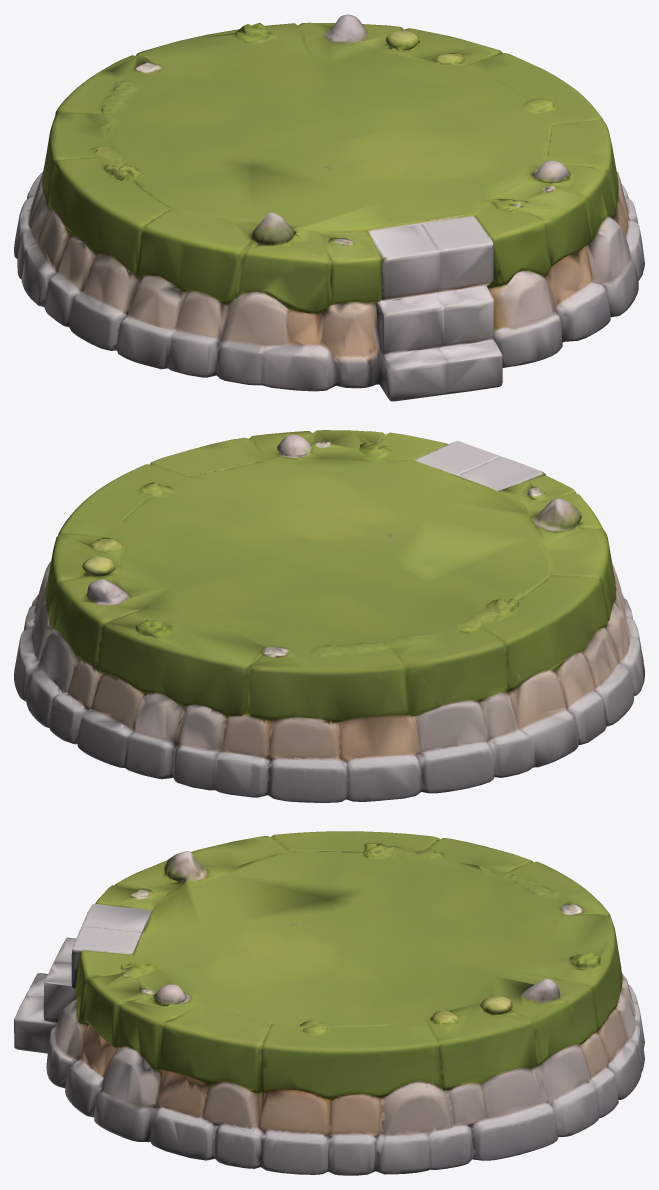
Rendered from island_base.glb.
3 views of the same model, one above another, from view 1: azimuth 30°, elevation 25°; view 2: azimuth 150°, elevation 25°; view 3: azimuth 270°, elevation 25° (orthographic). The views are drawn at different scales.
Visible parts, largest first — view 1: node_0; view 2: node_0; view 3: node_0.
Part boxes in pixels (<box>): node_0: <box>14,14,644,401</box>; node_0: <box>14,430,644,802</box>; node_0: <box>14,831,644,1175</box>.
Size of the model in its own units: 1.09 by 0.2728 by 1.16.
Materials: 1 (1 with a texture image).
